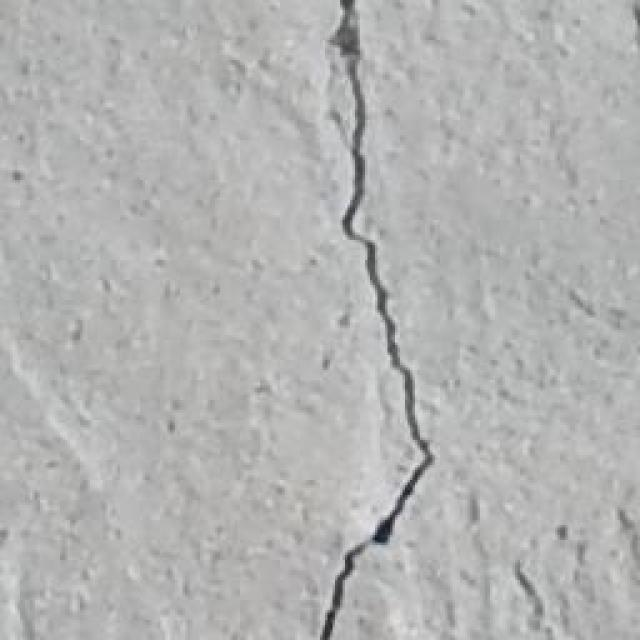concrete-crack: (318, 0, 435, 640)
